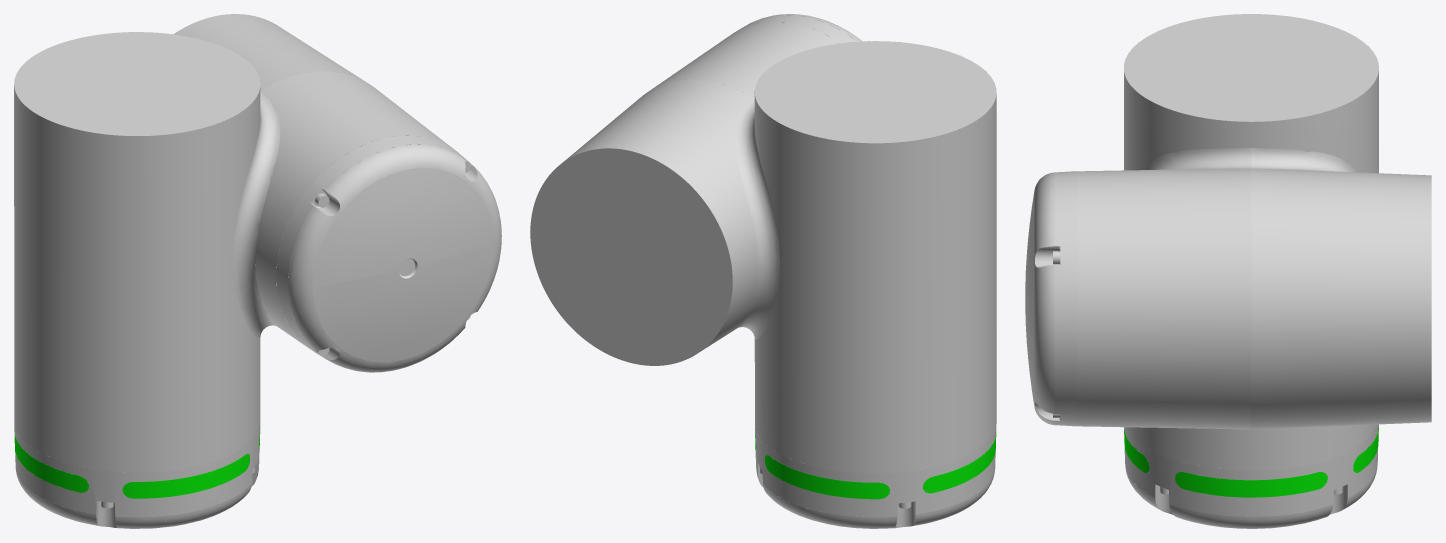
The picture shows the model from 3 angles, left to right: view 1: azimuth 30°, elevation 25°; view 2: azimuth 150°, elevation 25°; view 3: azimuth 270°, elevation 25°; orthographic projection. The views are drawn at different scales.
Parts seen in each view (by area): view 1: link5; view 2: link5; view 3: link5.
Boxes of the visible parts, <box> form: link5: <box>14,14,501,528</box>; link5: <box>530,14,996,528</box>; link5: <box>1025,14,1431,528</box>.
Size of the model in its own units: 0.1868 by 0.168 by 0.1955.
